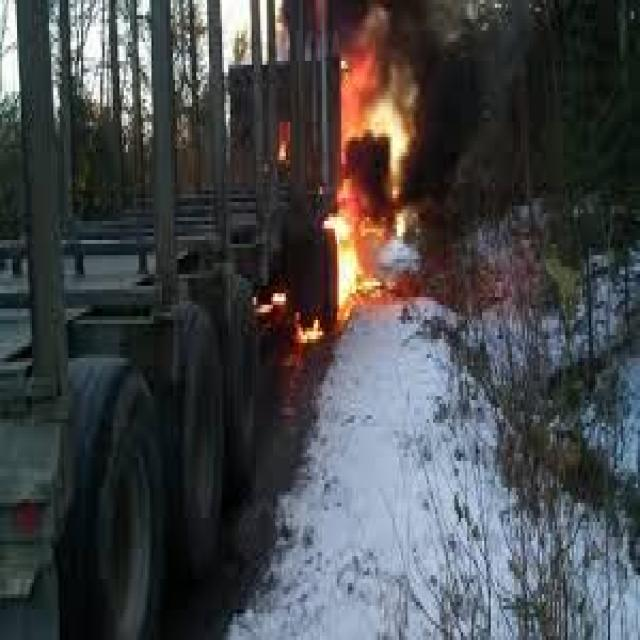Fire: (272, 0, 411, 345)
